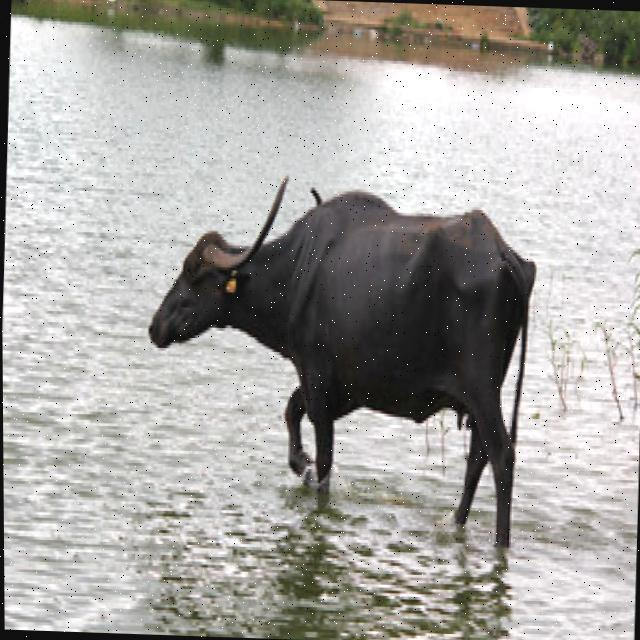Buffalo: (136, 165, 543, 551)
